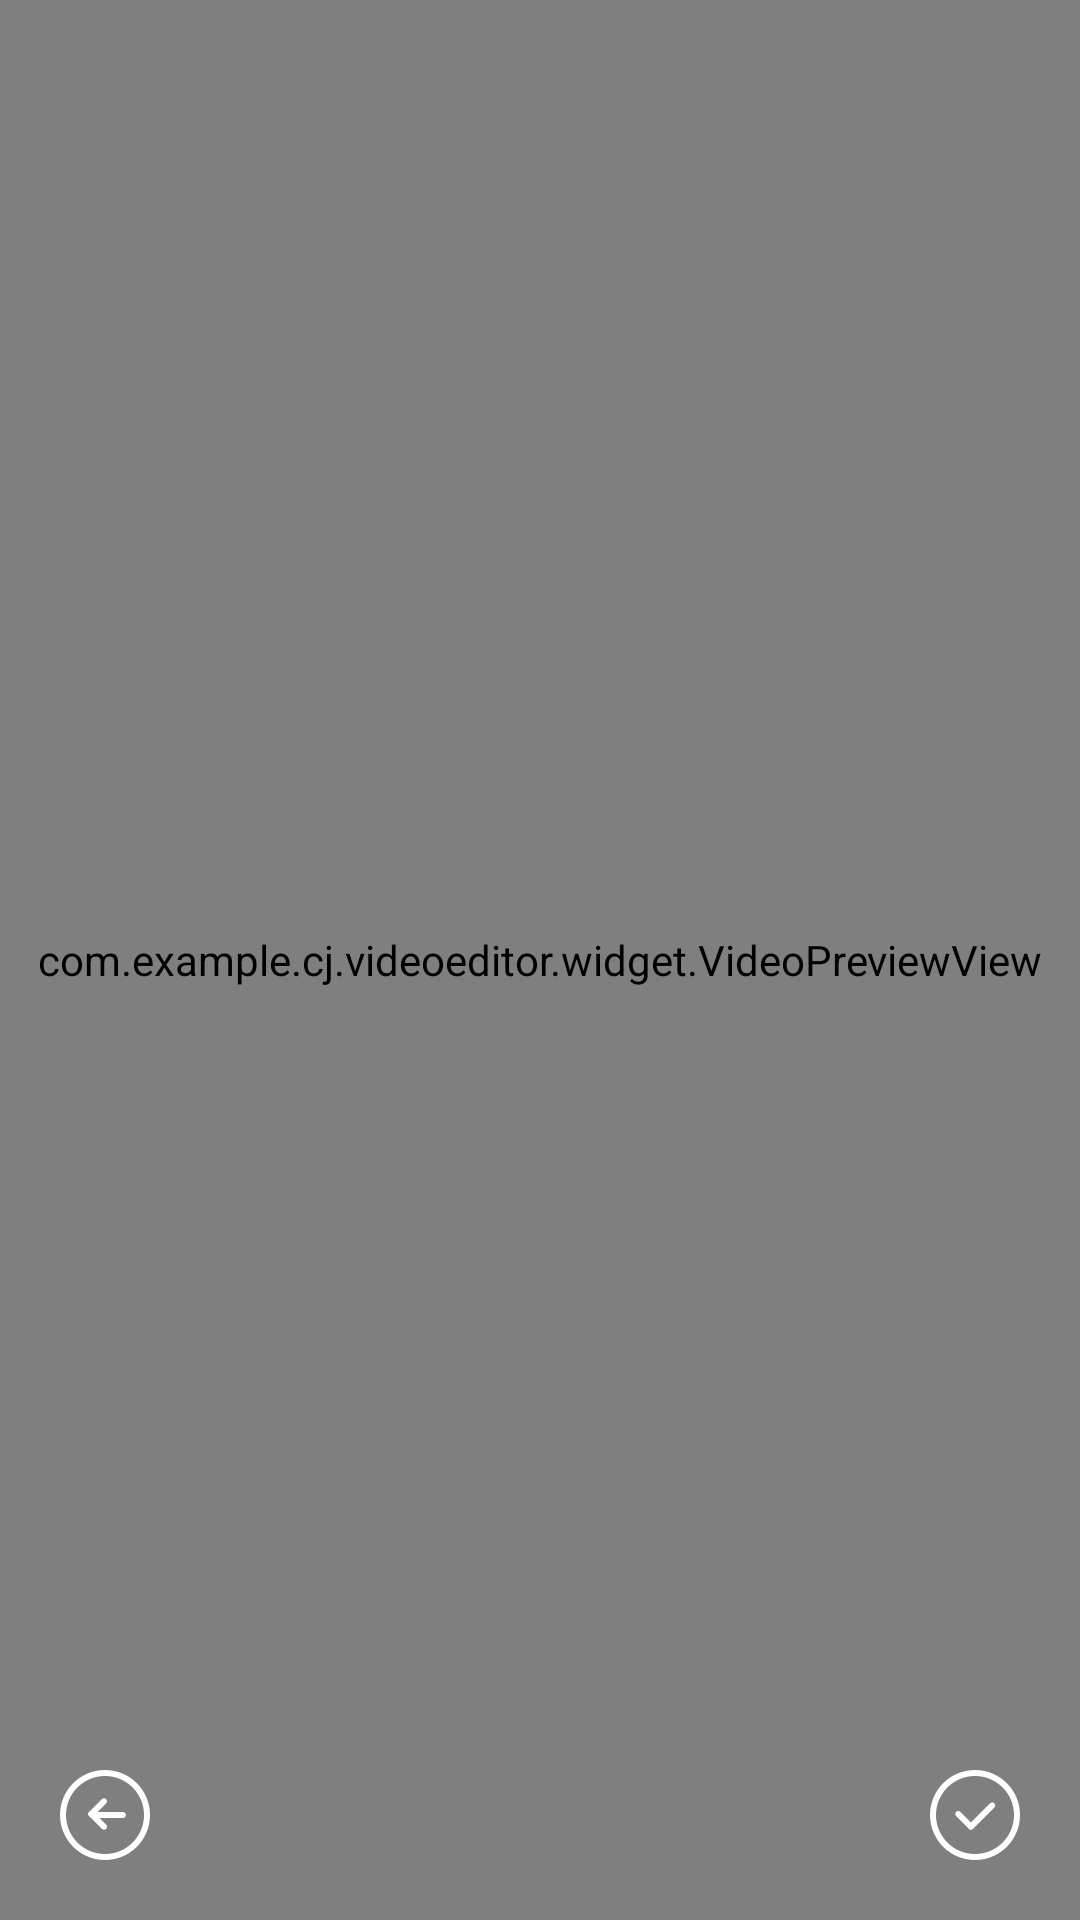

Icon click points for this 1080x1920 phone screenshot, format (x=x, y=y):
editor confirm: (x=975, y=1815)
editor record back: (x=105, y=1815)
